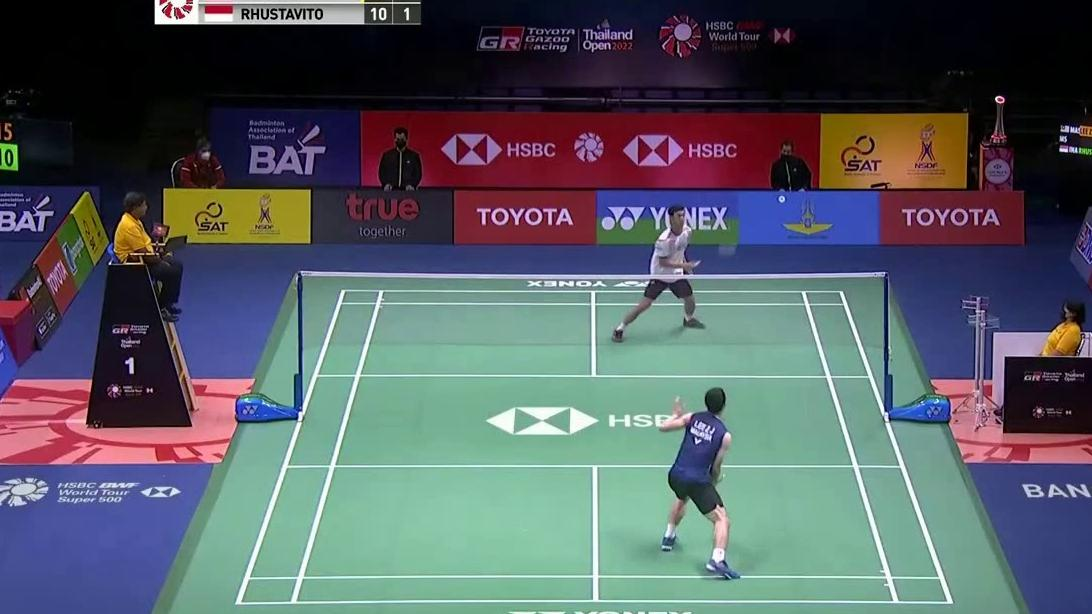racket: (687, 238, 739, 269)
shuttle: (778, 195, 786, 203)
